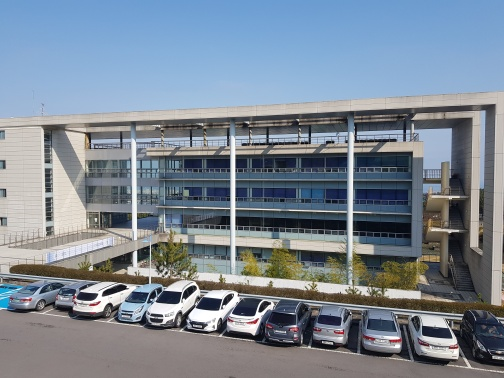Engineering College Building 4: (6, 108, 498, 276), (34, 131, 417, 248), (167, 139, 415, 256)
